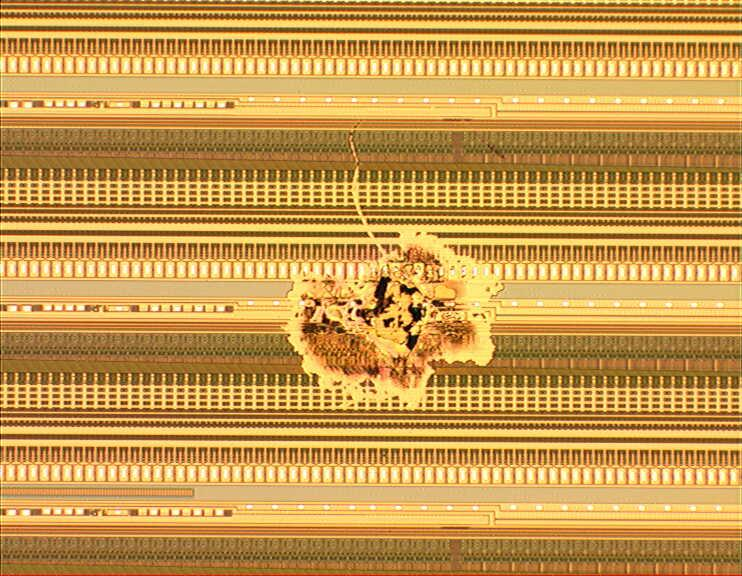BLOCK ETCH: (282, 113, 516, 420)
